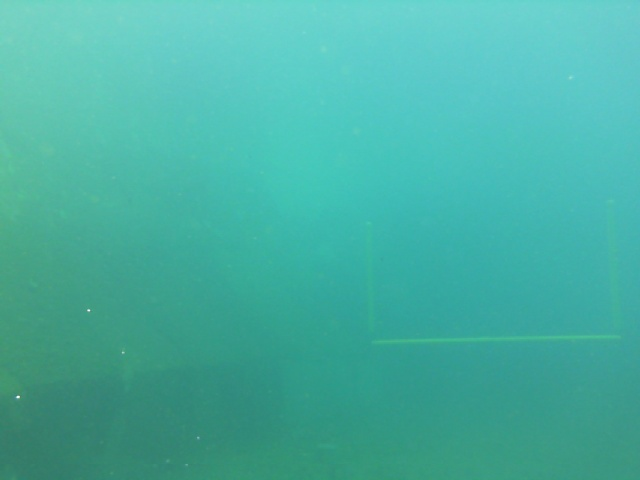channel: (366, 198, 624, 349)
